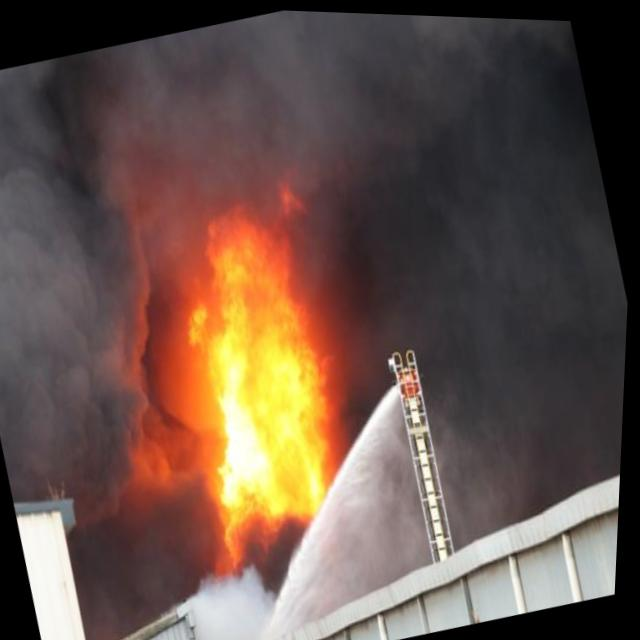fire: (131, 163, 398, 583)
